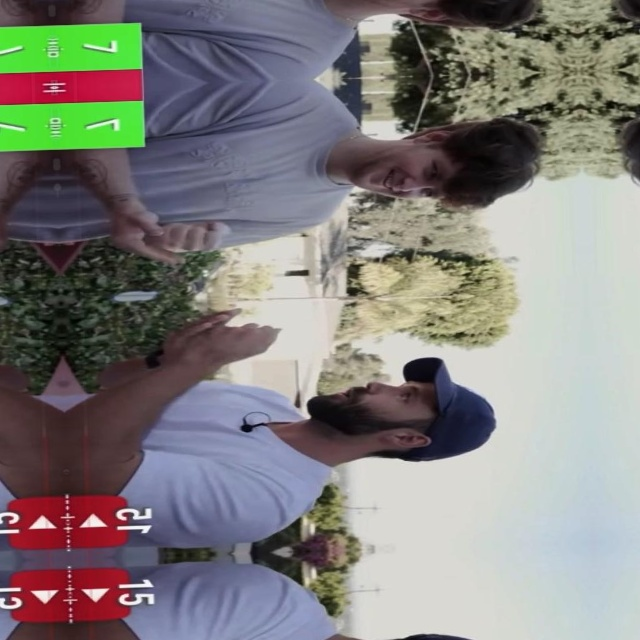Rock: (175, 321, 286, 368), (146, 221, 231, 254)
